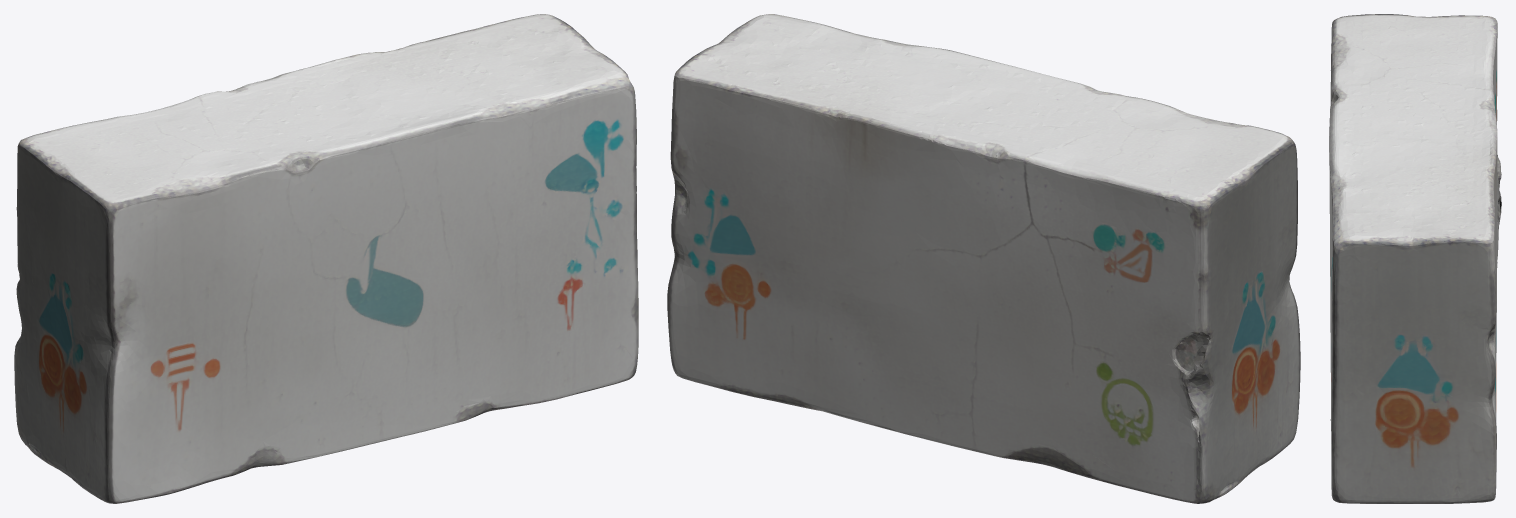
The model's file is rect.glb.
The picture shows the model from 3 angles, left to right: view 1: azimuth 30°, elevation 25°; view 2: azimuth 150°, elevation 25°; view 3: azimuth 270°, elevation 25°; orthographic projection. The views are drawn at different scales.
Parts seen in each view (by area): view 1: world; view 2: world; view 3: world.
Boxes of the visible parts, <box> form: world: <box>14,14,638,503</box>; world: <box>667,14,1300,503</box>; world: <box>1329,14,1501,503</box>.
Size of the model in its own units: 0.9932 by 0.5395 by 0.3151.
Materials: 1 (1 with a texture image).
